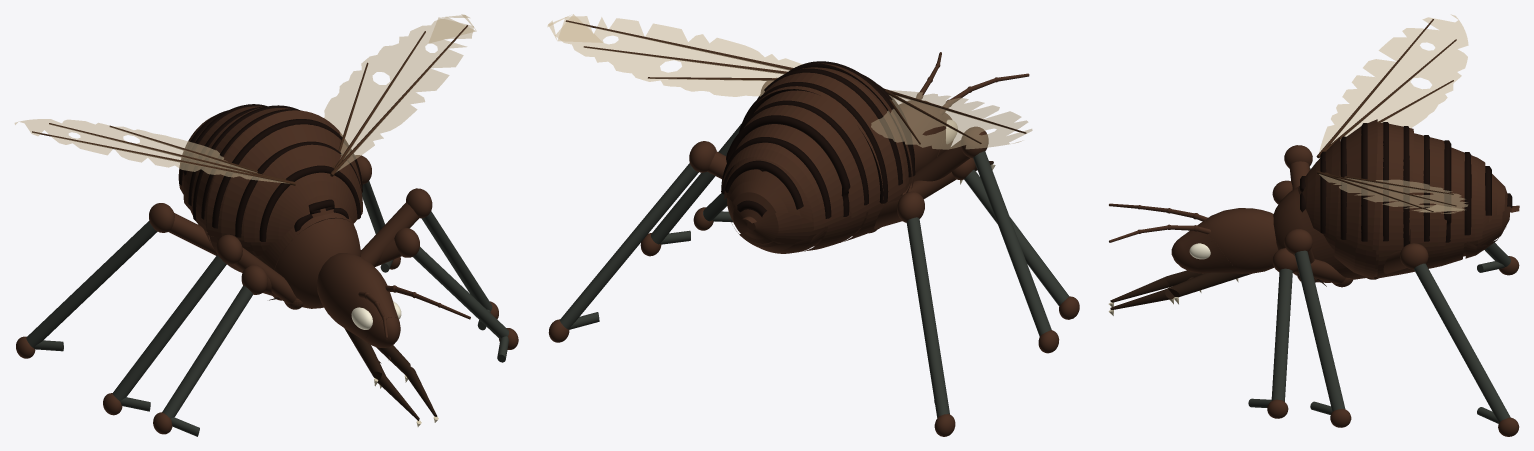
File: pelican_beetle.glb
3 renders of one model, left to right at view 1: azimuth 30°, elevation 25°; view 2: azimuth 150°, elevation 25°; view 3: azimuth 270°, elevation 25°, orthographic. The views are drawn at different scales.
Visible parts, largest first — view 1: wing_membrane (×2), BeetlePlate_00, BeetlePlate_01, HeadBase001, ThoraxCore001, Tibia008, Tibia011, Tibia007, Tibia006, wing_vein0 (×2), Tibia010, BeetlePlate_02 (+19 smaller); view 2: wing_membrane (×2), BeetlePlate_03, BeetlePlate_04, BeetlePlate_02, BeetlePlate_05, Tibia009, Tibia011, Tibia008, BeetleBodyInner, HeadBase001, abdomen_fold_3, Tibia007 (+16 smaller); view 3: wing_membrane (×2), HeadBase001, BeetlePlate_02, BeetlePlate_01, BeetlePlate_03, BeetlePlate_04, Tibia009, Tibia010, ThoraxCore001, BeetlePlate_00, Tibia006, BeetleBodyInner (+21 smaller).
Boxes of the visible parts, x1,y1,x2,y2 form: wing_membrane (×2): (14,14,476,183); BeetlePlate_00: (243,144,362,242); BeetlePlate_01: (206,110,361,240); HeadBase001: (317,253,400,347); ThoraxCore001: (259,212,361,308); Tibia008: (112,255,226,401); Tibia011: (26,221,157,347); Tibia007: (162,285,253,418); Tibia006: (413,247,508,339); wing_vein0 (×2): (32,25,467,185); Tibia010: (421,211,492,310); BeetlePlate_02: (195,107,291,231); wing_membrane (×2): (547,14,1032,149); BeetlePlate_03: (744,90,880,218); BeetlePlate_04: (721,124,851,229); BeetlePlate_02: (754,67,909,204); BeetlePlate_05: (724,156,813,223); Tibia009: (560,163,698,329); Tibia011: (906,217,949,417); Tibia008: (973,151,1051,336); BeetleBodyInner: (727,193,902,246); HeadBase001: (899,100,953,172); abdomen_fold_3: (726,115,850,216); Tibia007: (964,169,1069,305); wing_membrane (×2): (1319,14,1468,213); HeadBase001: (1171,208,1278,273); BeetlePlate_02: (1372,122,1413,250); BeetlePlate_01: (1336,119,1377,251); BeetlePlate_03: (1410,133,1446,246); BeetlePlate_04: (1445,147,1485,243); Tibia009: (1414,263,1510,422); Tibia010: (1294,250,1345,411); ThoraxCore001: (1273,186,1365,282); BeetlePlate_00: (1298,138,1340,240); Tibia006: (1271,268,1292,401); BeetleBodyInner: (1323,211,1509,274).
Size of the model in its own units: 3.48 by 1.96 by 3.03.
